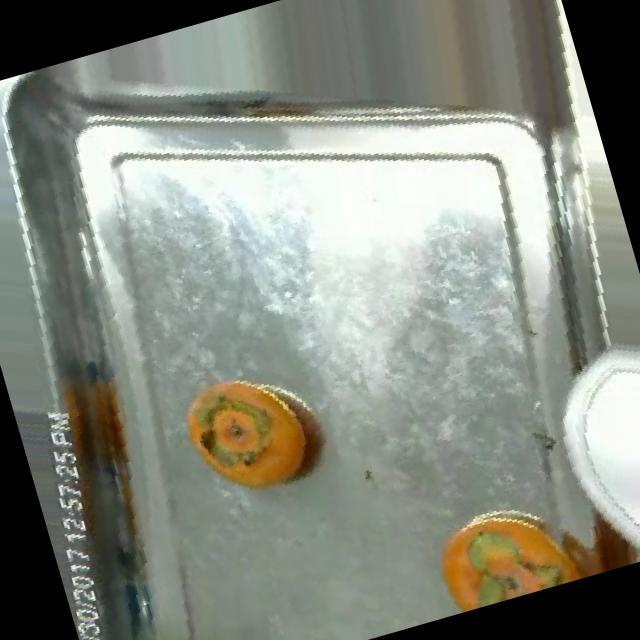Fruit: (163, 344, 348, 520), (406, 473, 599, 620)
